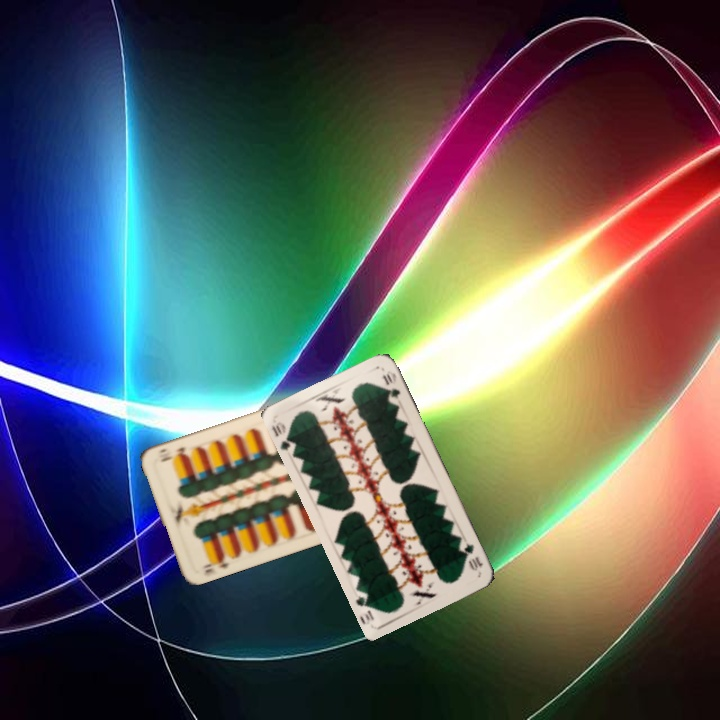E10: (198, 551, 233, 576)
G10: (268, 417, 299, 454), (460, 538, 486, 574)
